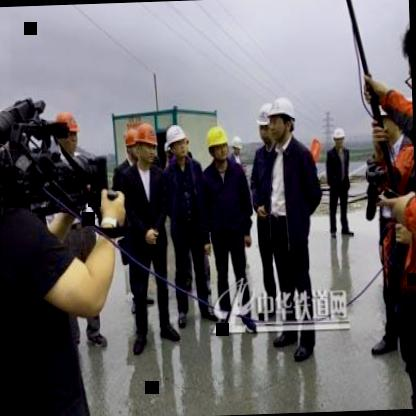helmet: (264, 95, 299, 144), (51, 109, 82, 155), (128, 122, 157, 166), (203, 123, 231, 168), (254, 102, 278, 146), (164, 122, 188, 164), (121, 123, 140, 164), (332, 124, 347, 155), (231, 134, 245, 160)
